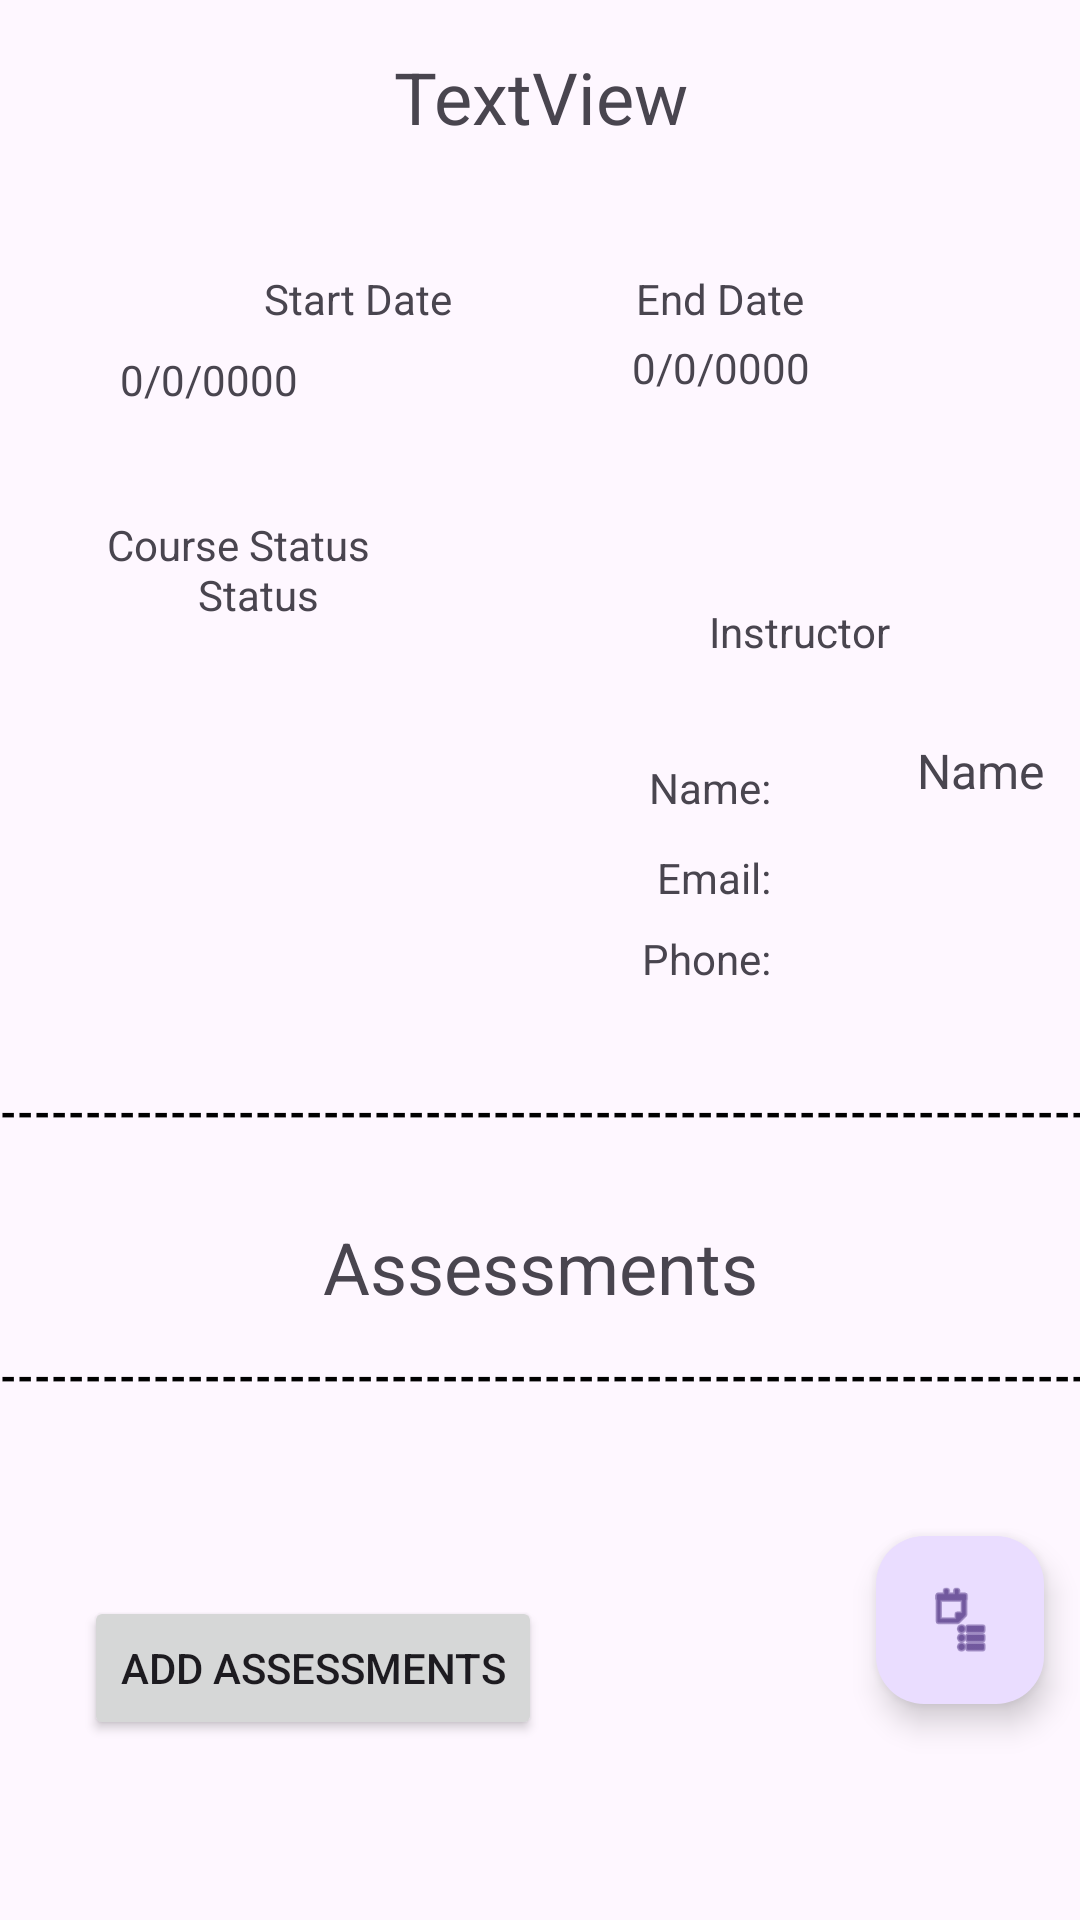

Icon click points for this 1080x1920 phone screenshot, format [x,y]:
agenda: [960,1620]
